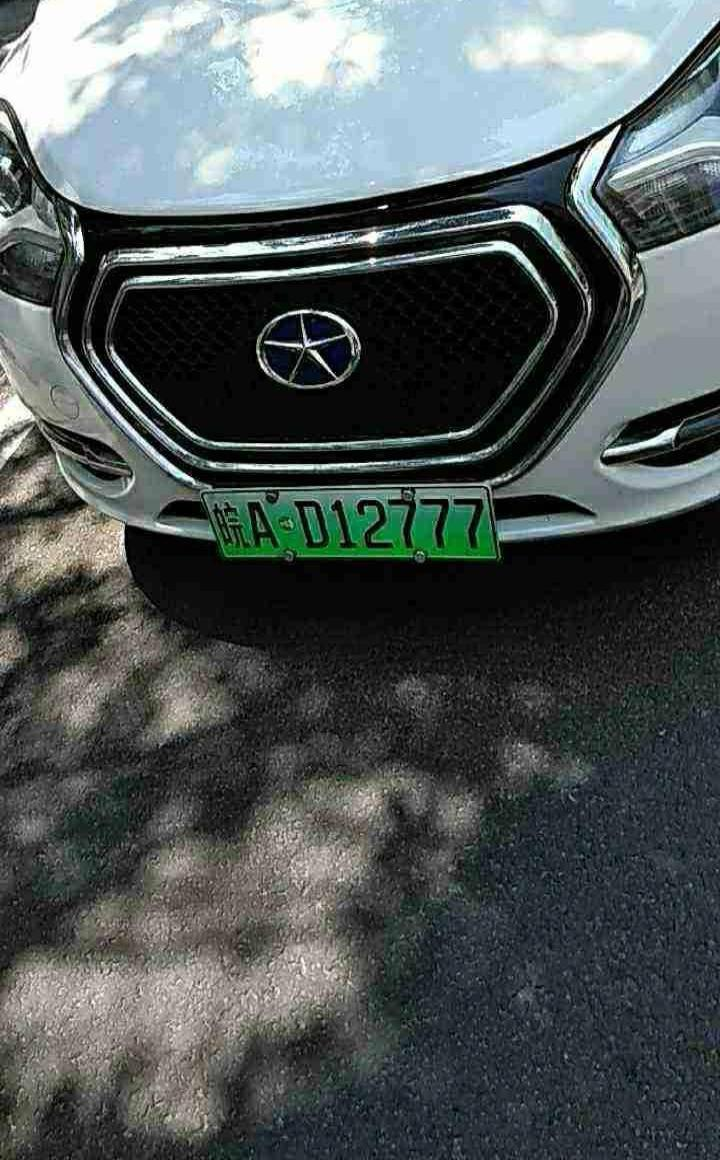car_id: (207, 488, 503, 557)
